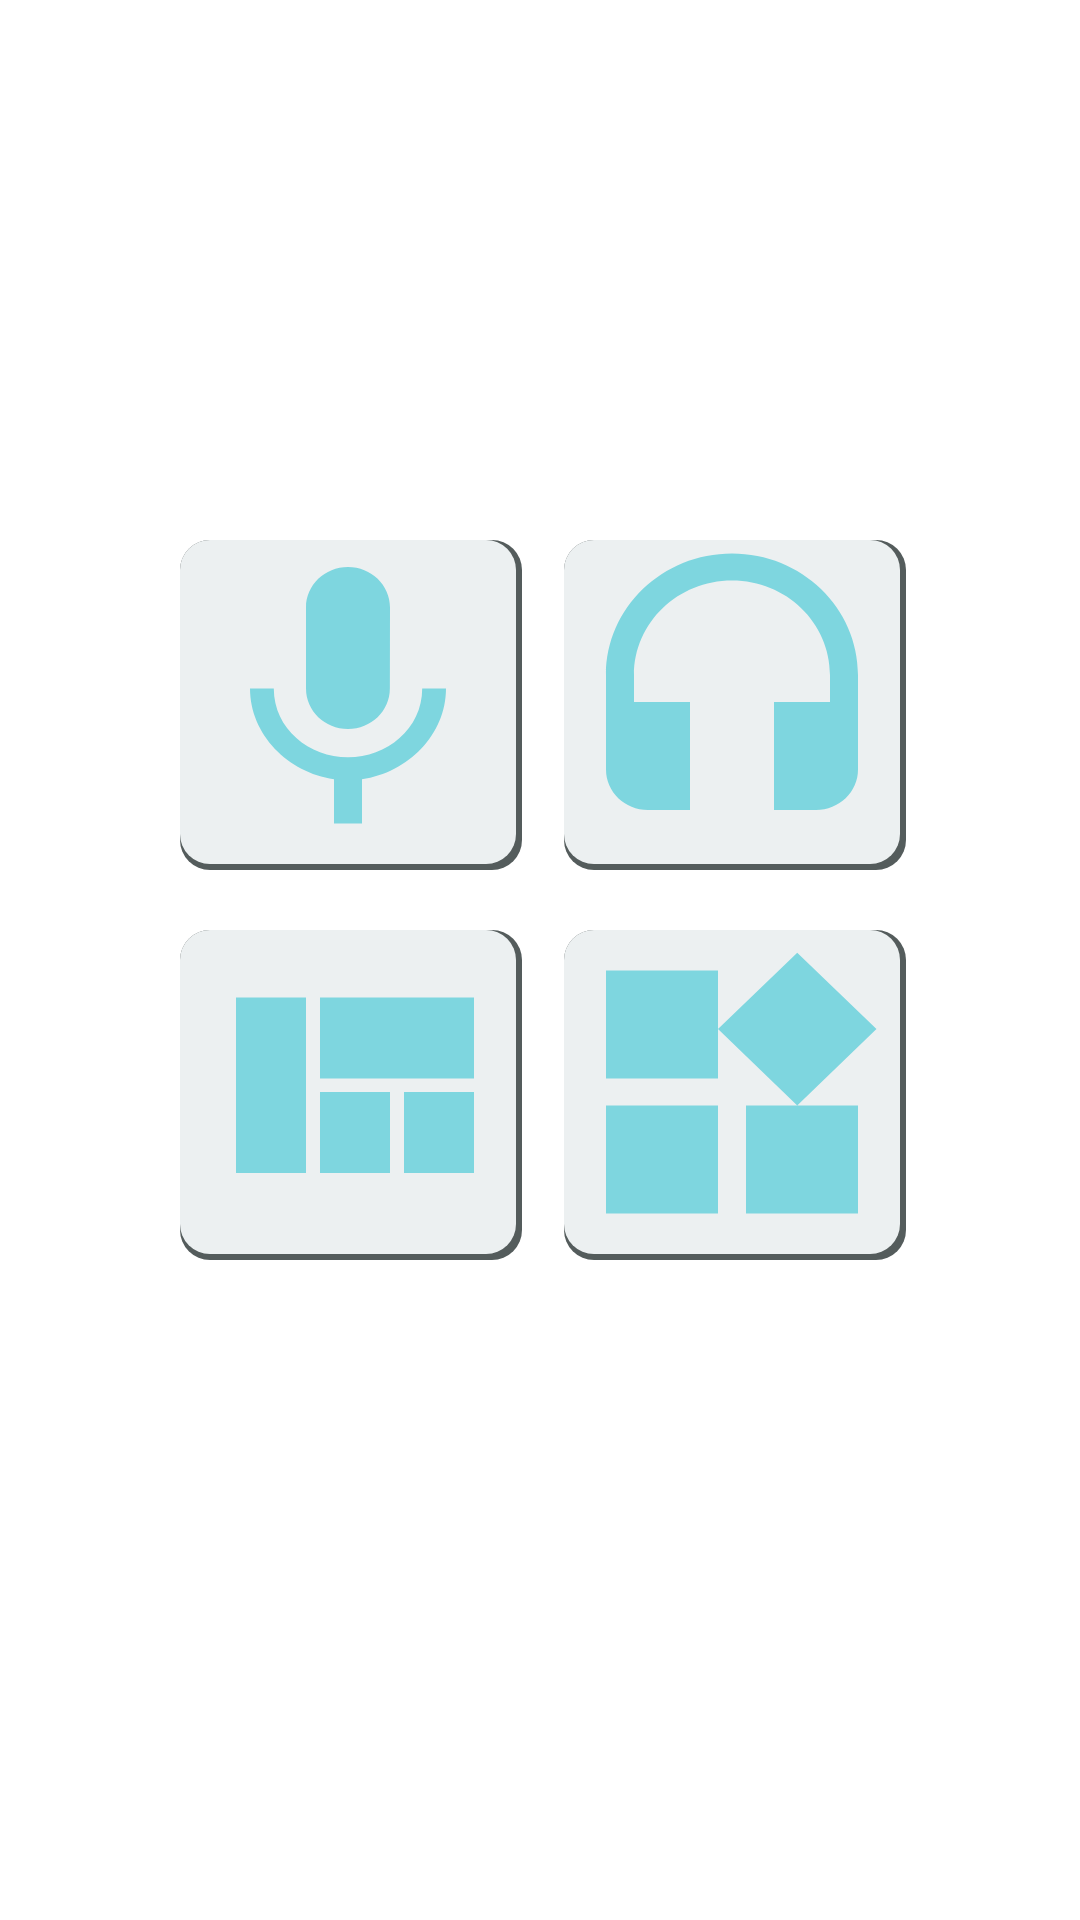

Where to tap for icons on this 1080*1920 app screen, as (x=x, y=y):
headset: (x=732, y=702)
mic: (x=348, y=702)
view quilt: (x=348, y=1092)
widgets: (x=732, y=1092)
